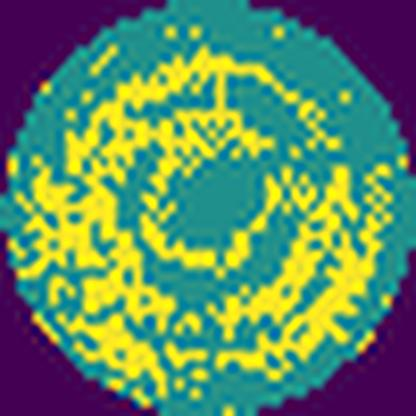Donut: (29, 38, 399, 402)
